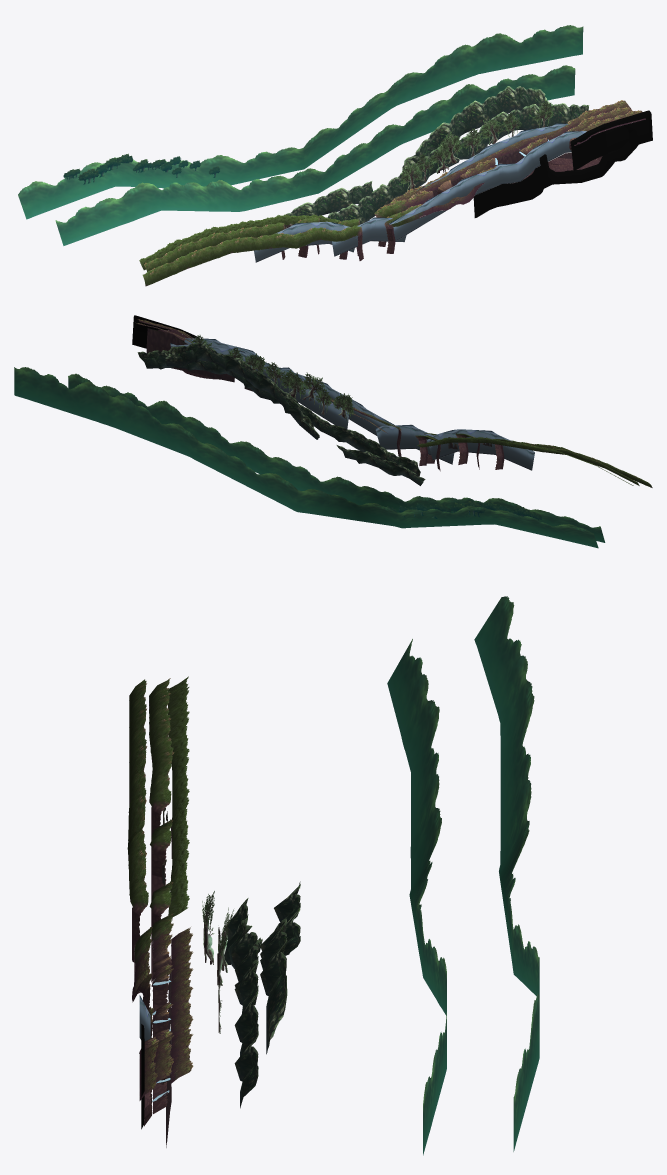
File: Lost Temple Part 1.FBX
3 views of the same model, one above another, from view 1: azimuth 30°, elevation 25°; view 2: azimuth 150°, elevation 25°; view 3: azimuth 270°, elevation 25° (orthographic). The views are drawn at different scales.
Parts seen in each view (by area): view 1: Horizon, Jungle Rock BG, Forest Fog, Black, Floor FG 1, LVL 4 Black_Cover Key Cave, Forest Fog 1, Floor BG, Floor 1, Trees Far, Floor BG 1, Jungle Trees 1 (+7 smaller); view 2: Horizon, Jungle Rock BG, Forest Fog 1, Jungle Trees 1, Forest Fog BG, Forest Fog, Floor Fall 1, Trees Far, Fall, Jungle Trees, Floor BG 1, LVL 4 Black_Cover Key Cave (+2 smaller); view 3: Horizon, Jungle Rock BG, Floor BG 1, Floor FG 1, Floor BG, Floor 1, Floor Fall 1, Floor FG, Floor Fall FG, Floor, Floor Fall 2, Jungle Trees 1.
Part boxes in pixels (x1=…): Horizon: x1=18, y1=25, x2=583, y2=245; Jungle Rock BG: x1=286, y1=86, x2=589, y2=224; Forest Fog: x1=389, y1=131, x2=586, y2=240; Black: x1=473, y1=124, x2=638, y2=217; Floor FG 1: x1=142, y1=227, x2=353, y2=286; LVL 4 Black_Cover Key Cave: x1=570, y1=110, x2=652, y2=170; Forest Fog 1: x1=254, y1=217, x2=406, y2=262; Floor BG: x1=380, y1=100, x2=629, y2=208; Floor 1: x1=144, y1=218, x2=354, y2=271; Trees Far: x1=63, y1=153, x2=219, y2=184; Floor BG 1: x1=139, y1=214, x2=344, y2=270; Jungle Trees 1: x1=399, y1=131, x2=462, y2=191; Horizon: x1=14, y1=367, x2=605, y2=548; Jungle Rock BG: x1=137, y1=342, x2=425, y2=485; Forest Fog 1: x1=375, y1=424, x2=534, y2=470; Jungle Trees 1: x1=281, y1=369, x2=354, y2=421; Forest Fog BG: x1=170, y1=343, x2=349, y2=429; Forest Fog: x1=184, y1=338, x2=394, y2=435; Floor Fall 1: x1=389, y1=424, x2=505, y2=471; Trees Far: x1=387, y1=501, x2=541, y2=520; Fall: x1=146, y1=328, x2=234, y2=382; Jungle Trees: x1=190, y1=335, x2=285, y2=387; Floor BG 1: x1=417, y1=437, x2=633, y2=485; LVL 4 Black_Cover Key Cave: x1=132, y1=315, x2=197, y2=348; Horizon: x1=387, y1=596, x2=539, y2=1155; Jungle Rock BG: x1=224, y1=881, x2=300, y2=1108; Floor BG 1: x1=168, y1=676, x2=189, y2=917; Floor FG 1: x1=127, y1=679, x2=147, y2=900; Floor BG: x1=171, y1=927, x2=193, y2=1083; Floor 1: x1=149, y1=678, x2=174, y2=904; Floor Fall 1: x1=149, y1=788, x2=173, y2=982; Floor FG: x1=132, y1=932, x2=159, y2=1100; Floor Fall FG: x1=130, y1=889, x2=158, y2=1126; Floor: x1=151, y1=918, x2=173, y2=1082; Floor Fall 2: x1=152, y1=942, x2=173, y2=1021; Jungle Trees 1: x1=202, y1=891, x2=233, y2=972.
Size of what is drawn, in the model's own units: 24289 by 7614 by 4226.
